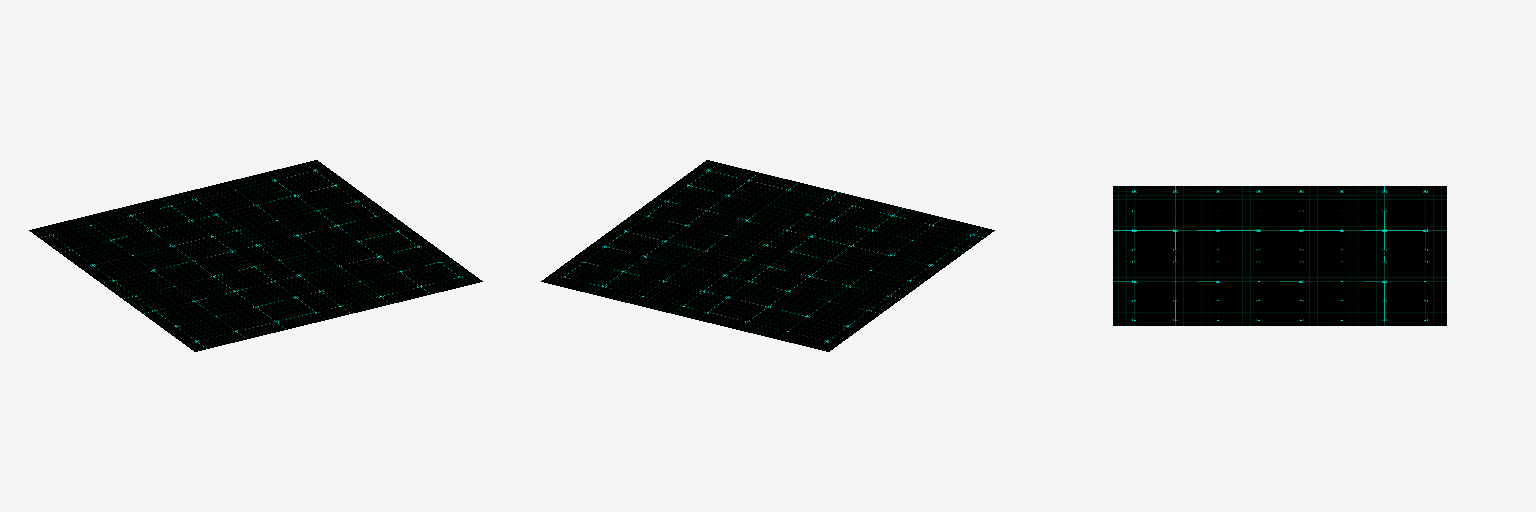
3 renders of one model, left to right at view 1: azimuth 30°, elevation 25°; view 2: azimuth 150°, elevation 25°; view 3: azimuth 270°, elevation 25°, orthographic.
Visible parts, largest first — view 1: Plane; view 2: Plane; view 3: Plane.
Boxes of the visible parts, x1,y1,x2,y2 form: Plane: [29, 160, 482, 351]; Plane: [541, 160, 994, 351]; Plane: [1113, 186, 1446, 325].
Size of the model in its own units: 15.93 by 0 by 15.93.
1 materials, 1 textured.